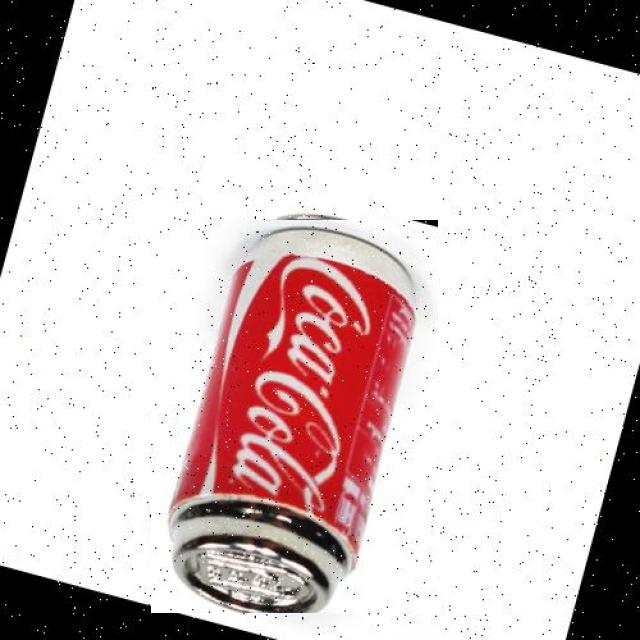coca-cola: (151, 220, 438, 613)
